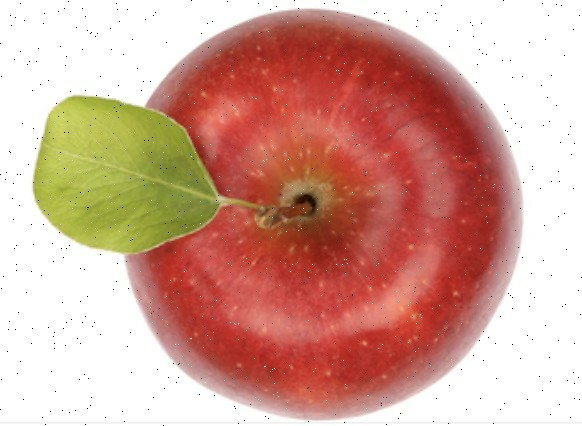fresh_apple: (122, 10, 526, 417)
